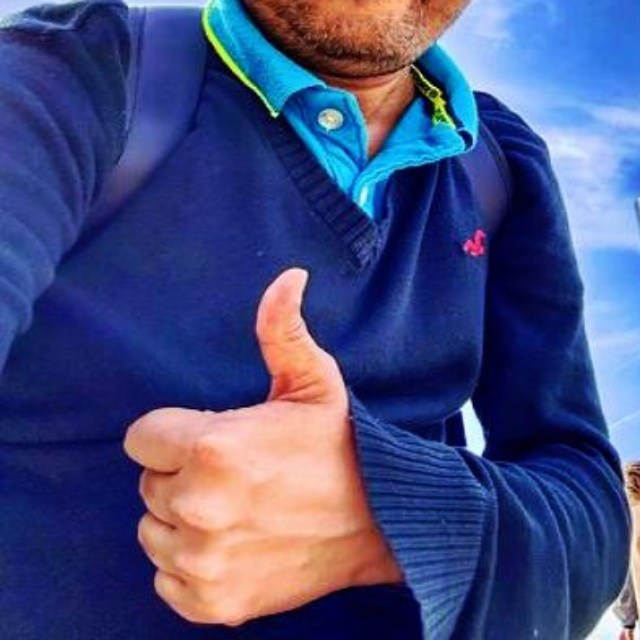thumbs_up: (116, 261, 377, 635)
